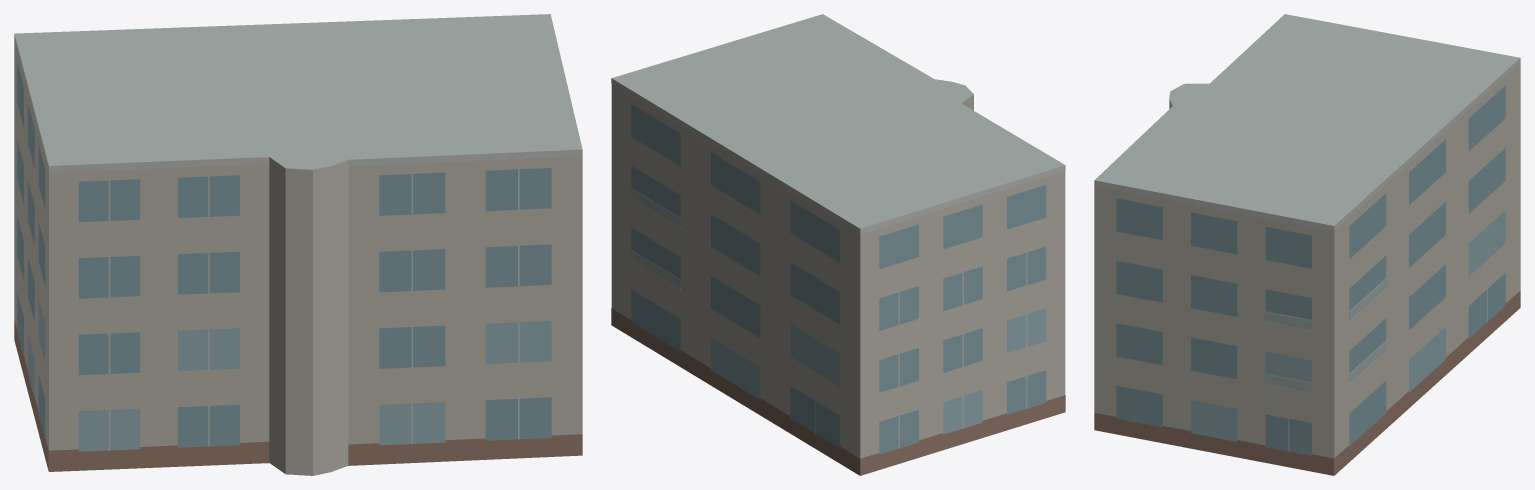
The model's file is survey-upis-32734381.glb.
3 renders of one model, left to right at view 1: azimuth 30°, elevation 25°; view 2: azimuth 150°, elevation 25°; view 3: azimuth 270°, elevation 25°, orthographic. The views are drawn at different scales.
Visible parts, largest first — view 1: survey-upis-32734381.tmp; view 2: survey-upis-32734381.tmp; view 3: survey-upis-32734381.tmp.
Part boxes in pixels (<box>): survey-upis-32734381.tmp: <box>14,14,582,475</box>; survey-upis-32734381.tmp: <box>611,14,1065,475</box>; survey-upis-32734381.tmp: <box>1094,14,1520,475</box>.
Bounding box in the file's own units: 20.02 × 11 × 17.01.
